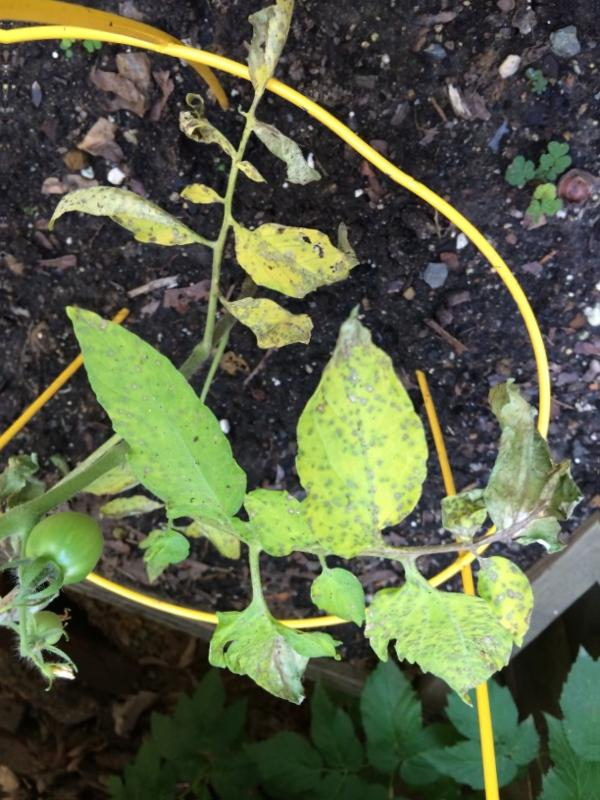Tomato Septoria leaf spot: (63, 303, 249, 556), (298, 296, 426, 576), (355, 574, 526, 712), (203, 586, 354, 724), (216, 210, 367, 293), (246, 487, 322, 569)
